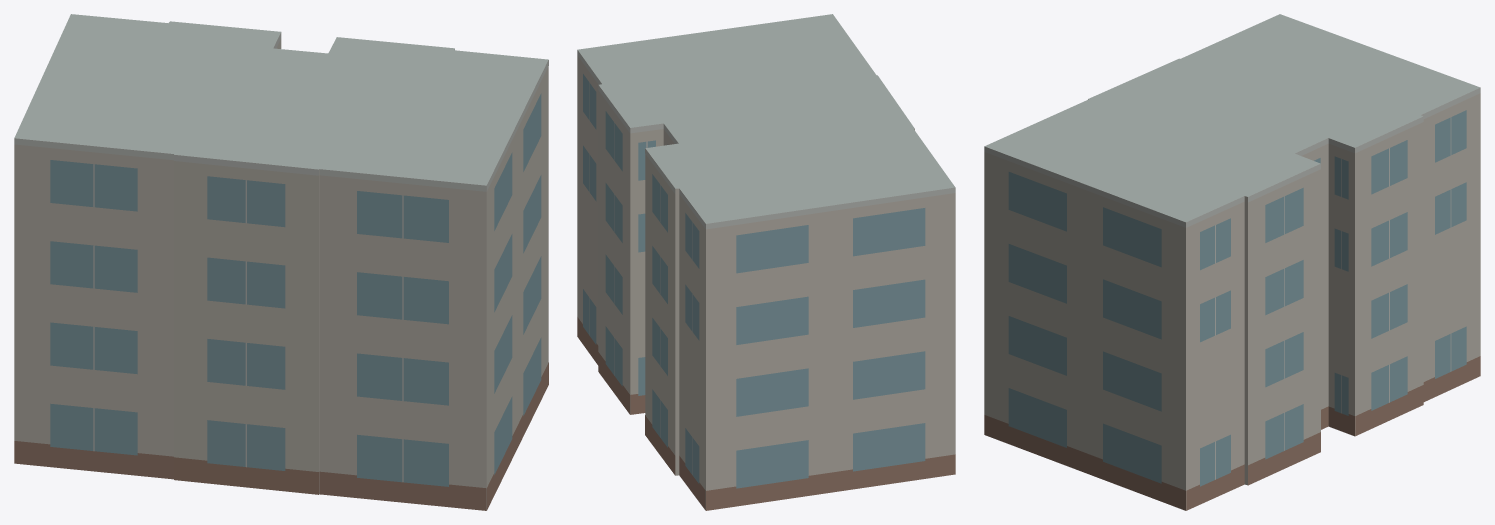
The model's file is survey-upis-32673870.glb.
3 renders of one model, left to right at view 1: azimuth 30°, elevation 25°; view 2: azimuth 150°, elevation 25°; view 3: azimuth 270°, elevation 25°, orthographic. The views are drawn at different scales.
Parts seen in each view (by area): view 1: survey-upis-32673870.tmp; view 2: survey-upis-32673870.tmp; view 3: survey-upis-32673870.tmp.
Boxes of the visible parts, <box> form: survey-upis-32673870.tmp: <box>14,14,548,510</box>; survey-upis-32673870.tmp: <box>577,14,955,510</box>; survey-upis-32673870.tmp: <box>984,14,1480,510</box>.
Bounding box in the file's own units: 19.84 × 12.8 × 19.97.
